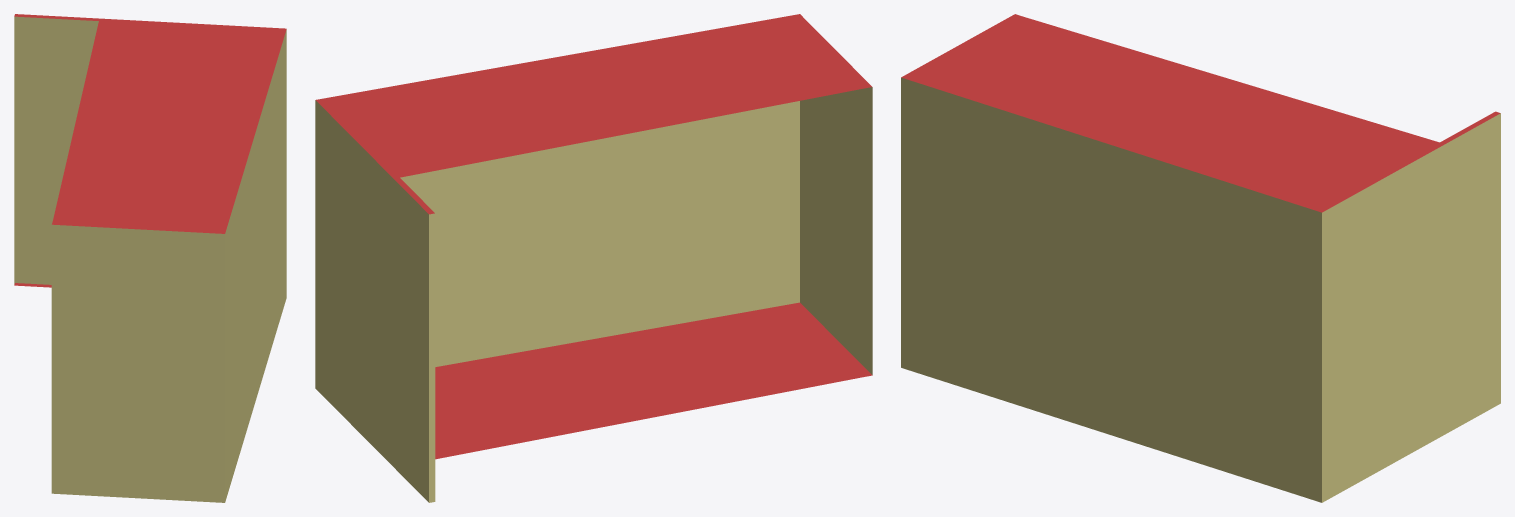
3 renders of one model, left to right at view 1: azimuth 30°, elevation 25°; view 2: azimuth 150°, elevation 25°; view 3: azimuth 270°, elevation 25°, orthographic. The views are drawn at different scales.
Size of the model in its own units: 7.84 by 10 by 5.34.
